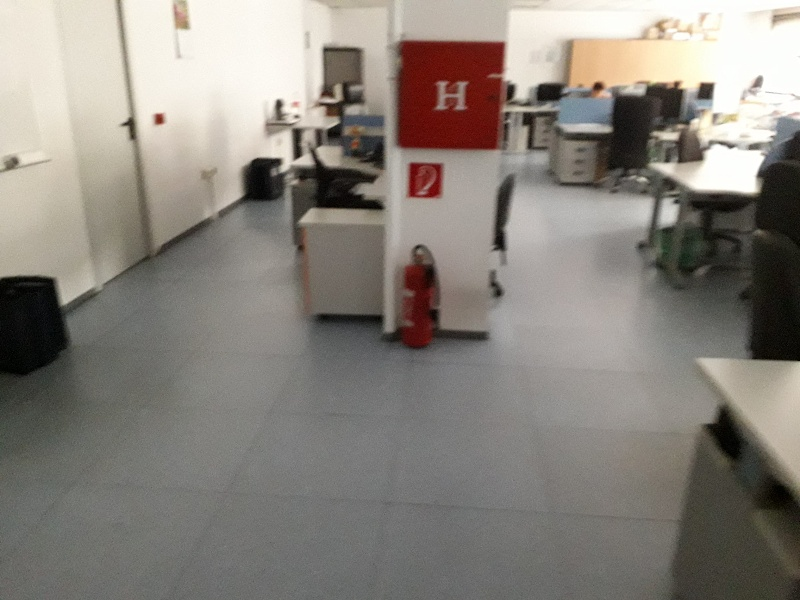vataparat: (402, 246, 439, 348)
